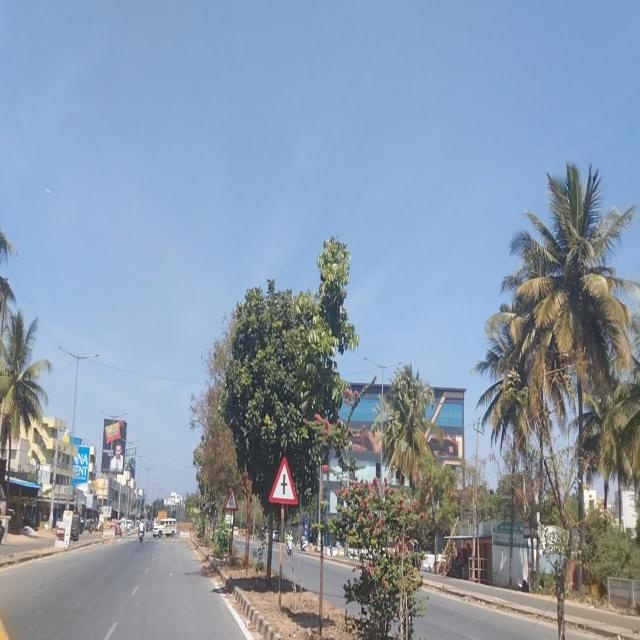bien_nguy_hiem: (268, 455, 298, 508), (225, 488, 238, 512)
